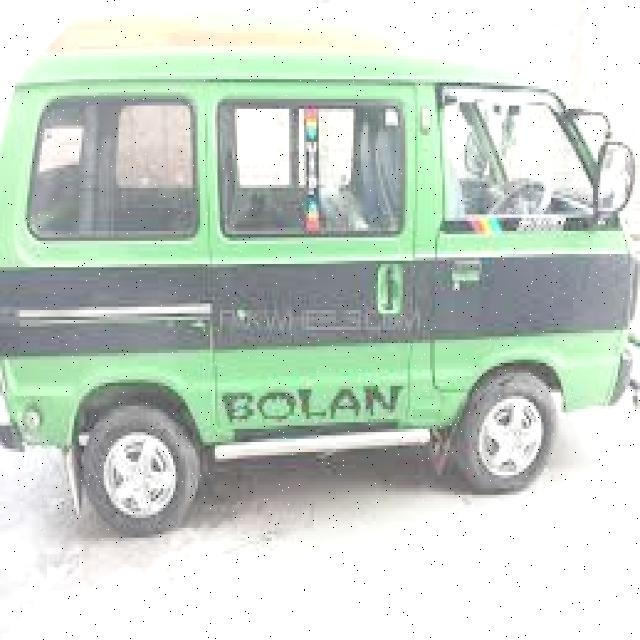Van: (0, 30, 640, 538)
